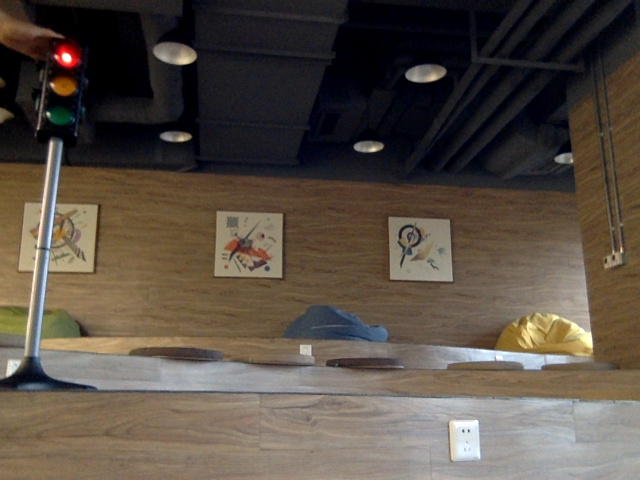red: (43, 44, 82, 129)
